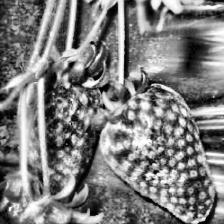Powdery Mildew Fruit: (97, 83, 216, 224), (17, 64, 105, 205)
